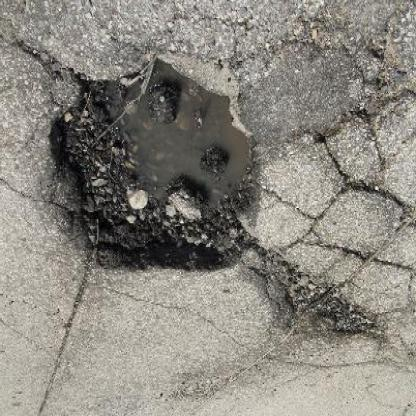pothole: (45, 60, 267, 279), (262, 255, 383, 343)
